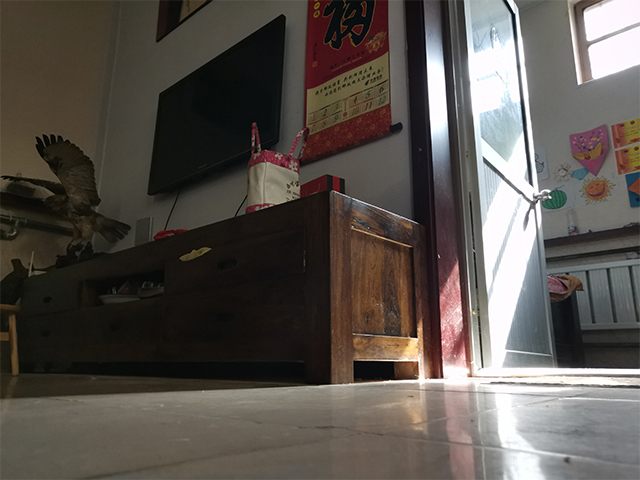cabinet: (12, 186, 431, 387)
